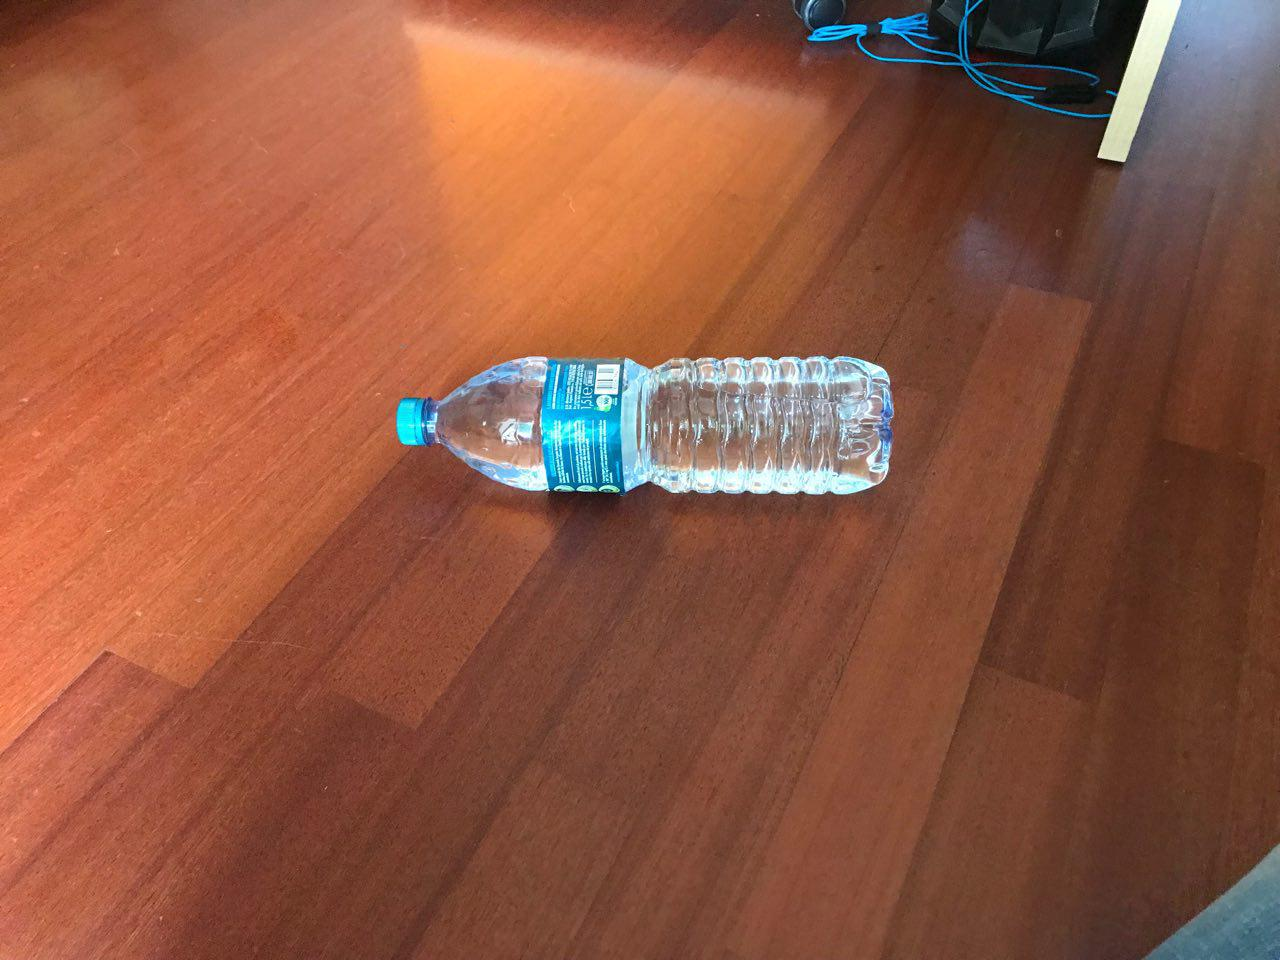san_bernardo: (394, 354, 894, 497)
